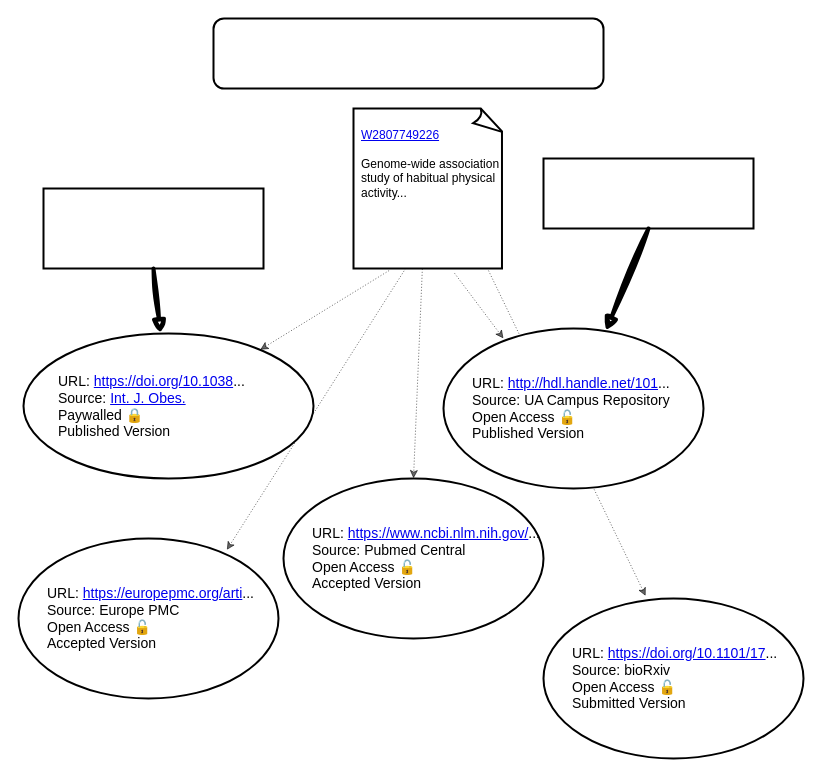
Image size: 821x776. Some labels were removed from this diagram. Each missing label, with the centre of its shape:
"Best OA Location" belongs at pixel 648 193.
"One Work, Many Locations" belongs at pixel 408 53.
"Primary Location (version of record)" belongs at pixel 153 228.
